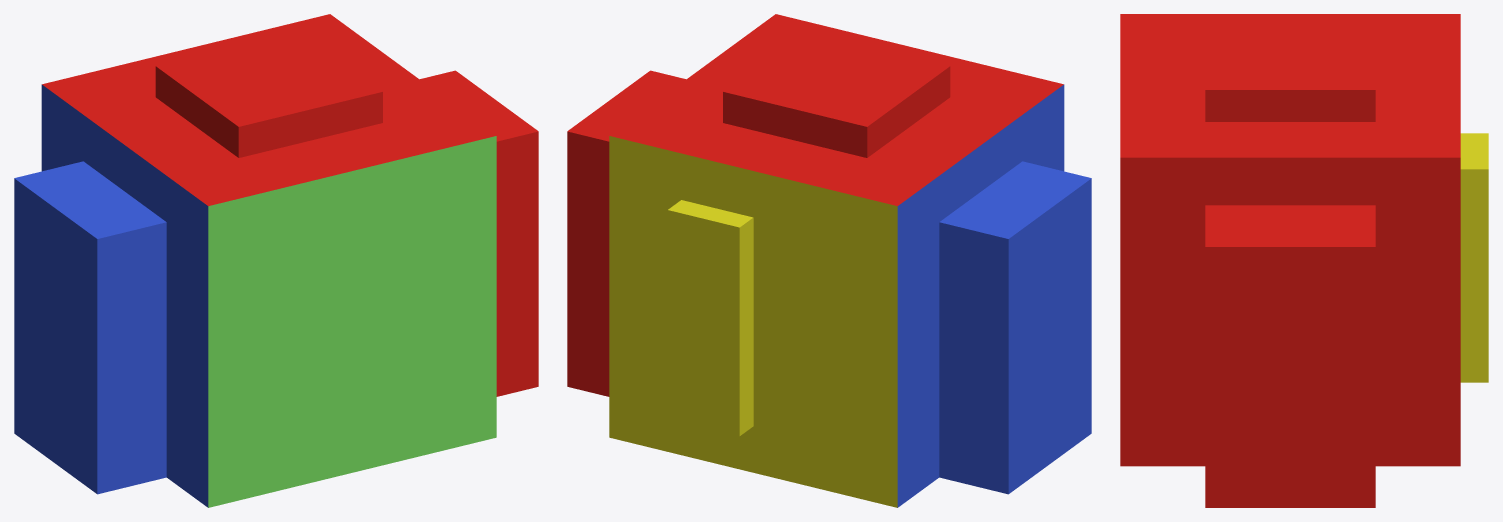
Rendered from LightBox.dae.
3 renders of one model, left to right at view 1: azimuth 30°, elevation 25°; view 2: azimuth 150°, elevation 25°; view 3: azimuth 270°, elevation 25°, orthographic. The views are drawn at different scales.
Parts seen in each view (by area): view 1: Room; view 2: Room; view 3: Room.
Boxes of the visible parts, x1,y1,x2,y2 form: Room: (14, 14, 538, 507); Room: (567, 14, 1091, 507); Room: (1120, 14, 1488, 507).
Bounding box in the file's own units: 3.06 × 2.17 × 2.21.
